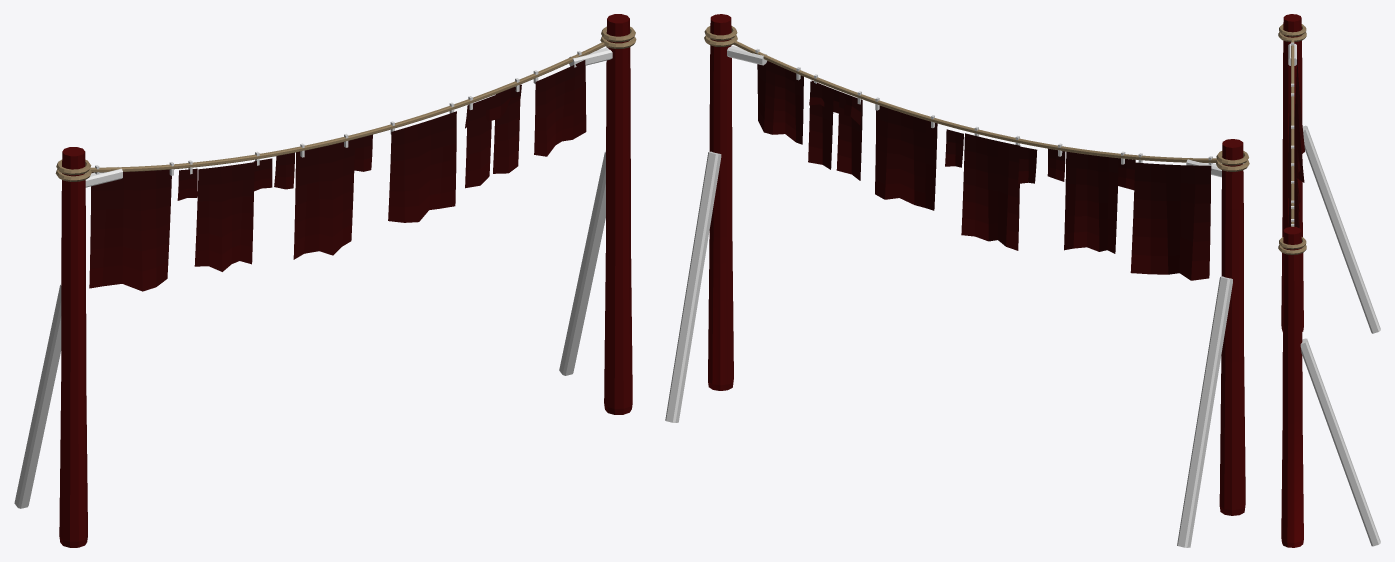
Rendered from SilverbrookPropWashingLine.fbx.
The picture shows the model from 3 angles, left to right: view 1: azimuth 30°, elevation 25°; view 2: azimuth 150°, elevation 25°; view 3: azimuth 270°, elevation 25°; orthographic projection. The views are drawn at different scales.
Parts seen in each view (by area): view 1: SM_SBWashingLine_Cloth, SM_SBWashingLine_Posts, SM_SBWashingLine_Props, SM_SBWashingLine_Rope; view 2: SM_SBWashingLine_Cloth, SM_SBWashingLine_Posts, SM_SBWashingLine_Props, SM_SBWashingLine_Rope; view 3: SM_SBWashingLine_Posts, SM_SBWashingLine_Props, SM_SBWashingLine_Cloth, SM_SBWashingLine_Rope.
Part boxes in pixels (x1,y1,x2,y2): SM_SBWashingLine_Cloth: (89, 60, 586, 291); SM_SBWashingLine_Posts: (59, 14, 632, 547); SM_SBWashingLine_Props: (14, 47, 612, 508); SM_SBWashingLine_Rope: (55, 26, 636, 181); SM_SBWashingLine_Cloth: (757, 61, 1211, 280); SM_SBWashingLine_Posts: (708, 14, 1245, 515); SM_SBWashingLine_Props: (665, 45, 1232, 547); SM_SBWashingLine_Rope: (704, 26, 1249, 171); SM_SBWashingLine_Posts: (1281, 14, 1303, 547); SM_SBWashingLine_Props: (1288, 42, 1380, 546); SM_SBWashingLine_Cloth: (1287, 52, 1304, 228); SM_SBWashingLine_Rope: (1278, 24, 1306, 254).
Bounding box in the file's own units: 370 × 241 × 70.93.
